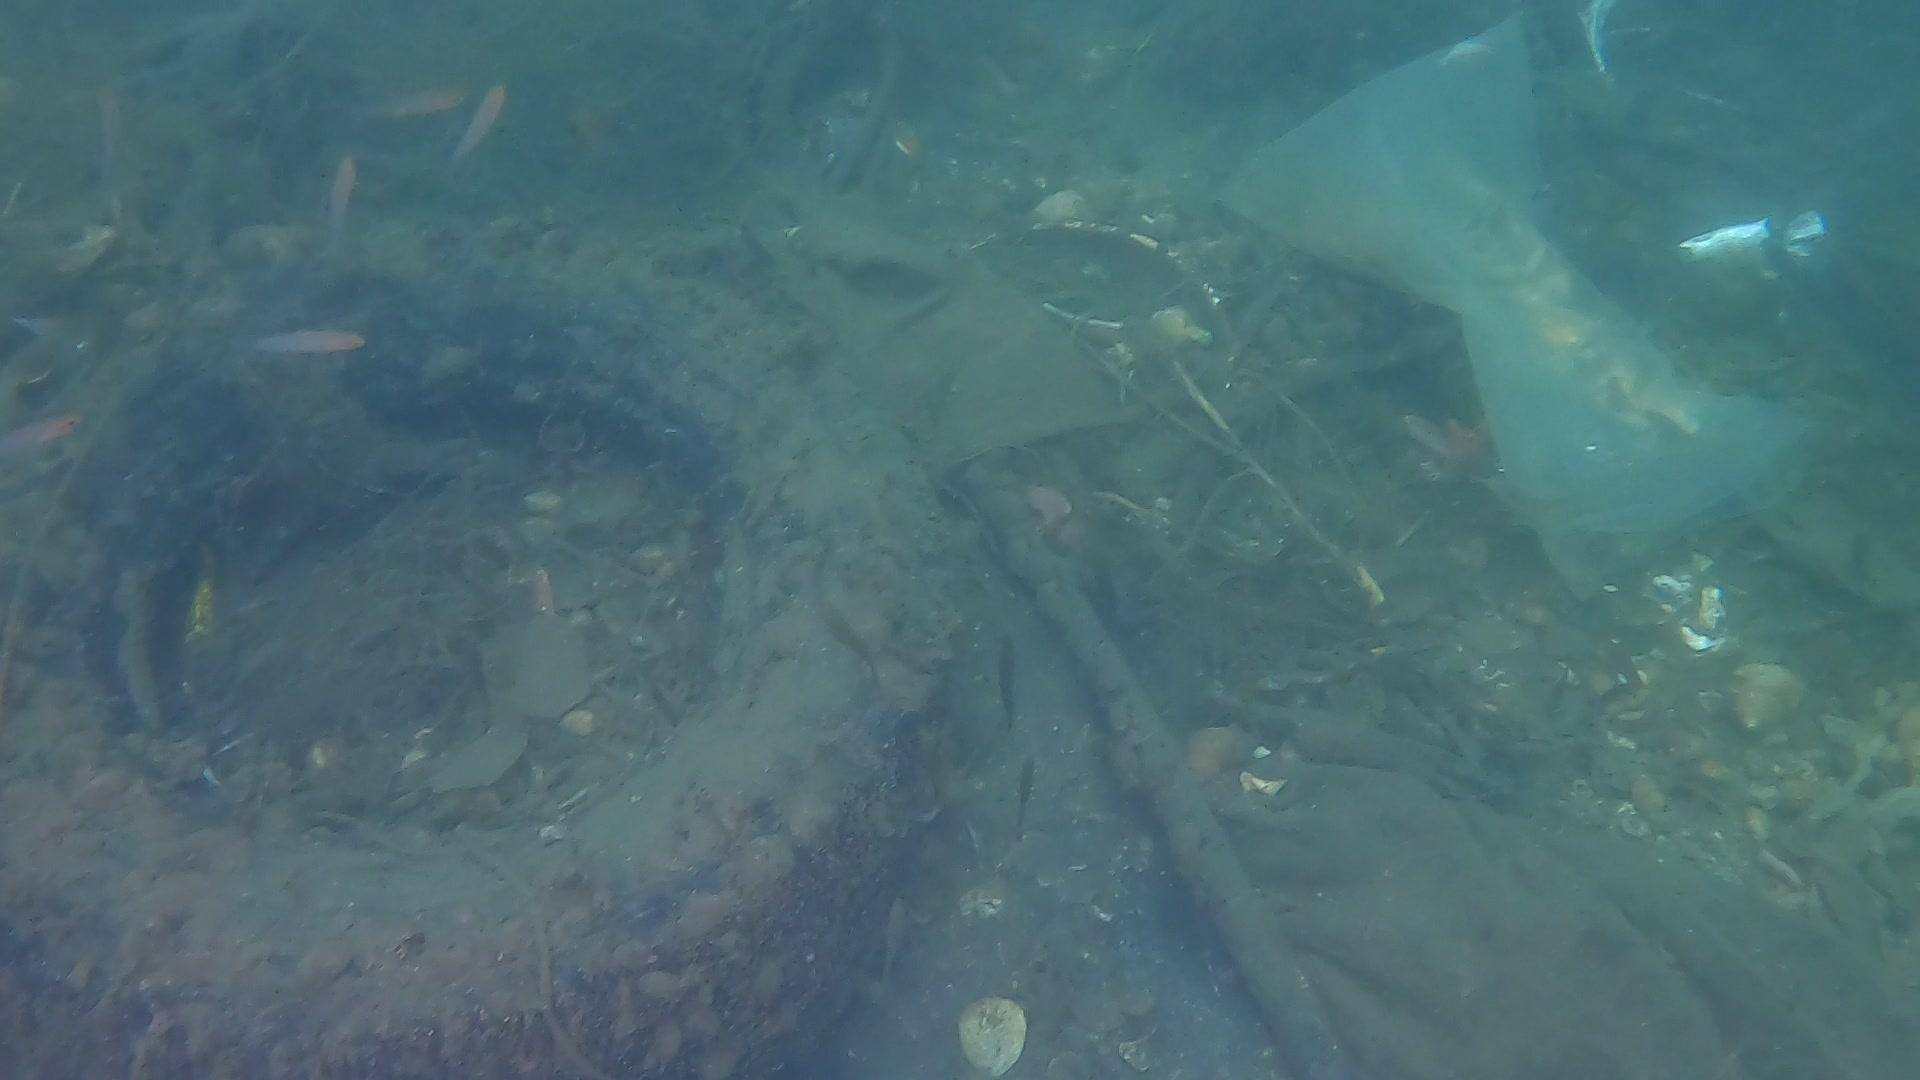tire: (0, 199, 957, 1080)
